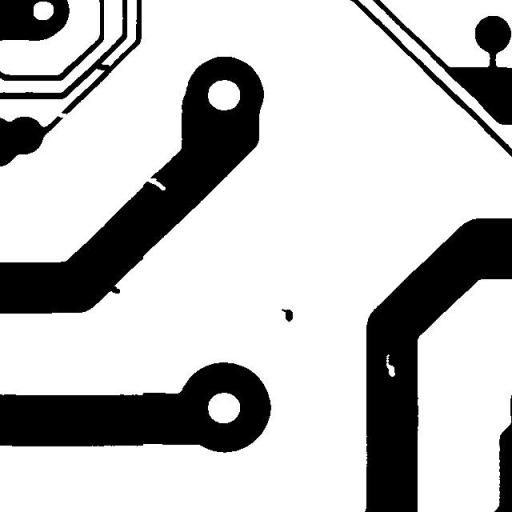copper: (274, 301, 300, 329)
mousebite: (134, 168, 173, 198)
open: (50, 105, 74, 125)
pin-hole: (378, 346, 402, 384)
short: (88, 56, 118, 78)
spur: (99, 278, 127, 301)
